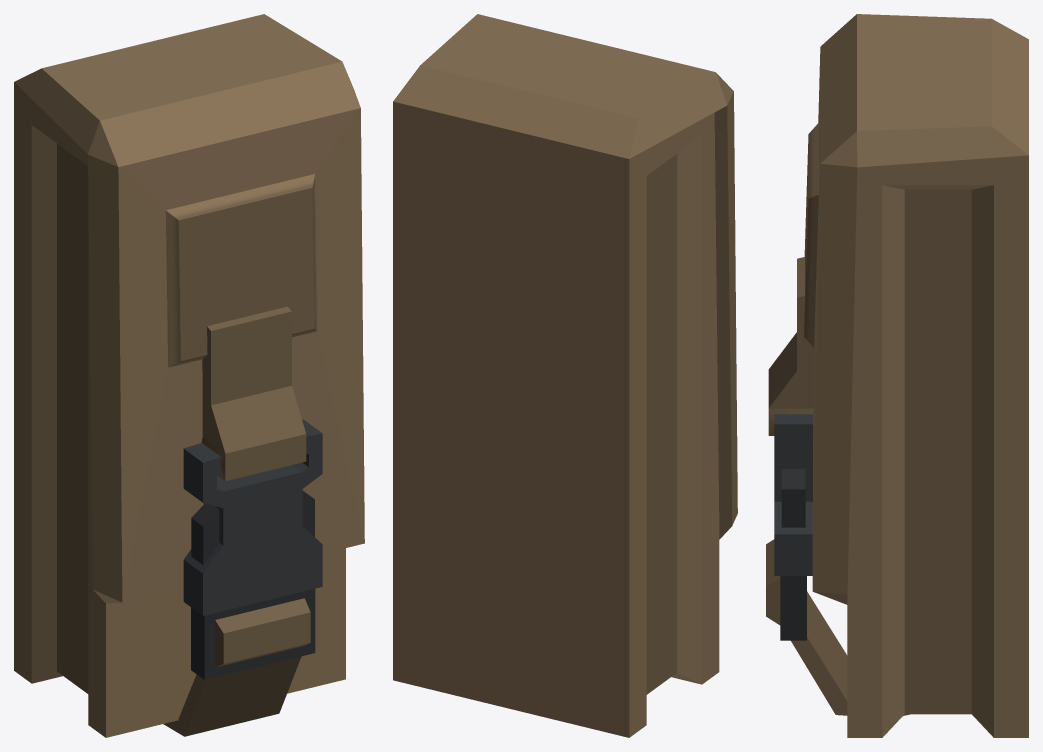
Rendered from SM_Chr_Attach_Pouch_02.fbx.
3 views of the same model, side by side, from view 1: azimuth 30°, elevation 25°; view 2: azimuth 150°, elevation 25°; view 3: azimuth 270°, elevation 25° (orthographic).
Visible parts, largest first — view 1: SM_Chr_Attach_Pouch_02; view 2: SM_Chr_Attach_Pouch_02; view 3: SM_Chr_Attach_Pouch_02.
Part boxes in pixels (x1,y1,x2,y2): SM_Chr_Attach_Pouch_02: (14,14,364,737); SM_Chr_Attach_Pouch_02: (393,14,737,737); SM_Chr_Attach_Pouch_02: (766,14,1028,737).
Bounding box in the file's own units: 8.32 × 18.83 × 7.2.
